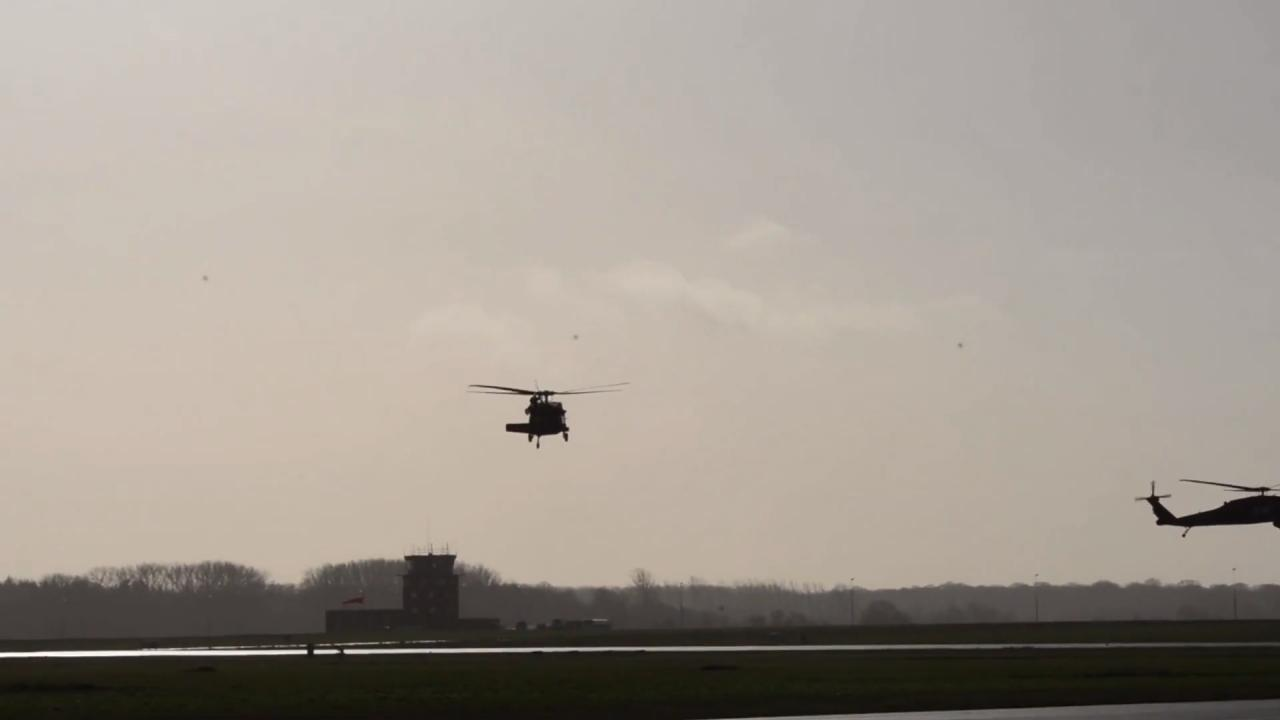Helicopter: (1123, 459, 1280, 552), (465, 372, 627, 455)
